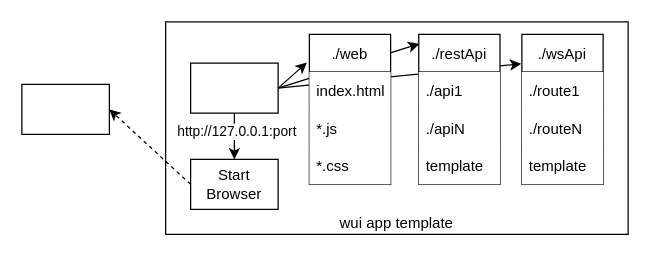
Image size: 650x256. Some labels were removed from this diagram. The centre of each missing label's shape, as x and y in pixels:
Local Browser: the point at 65,108
Local Server: the point at 233,87
